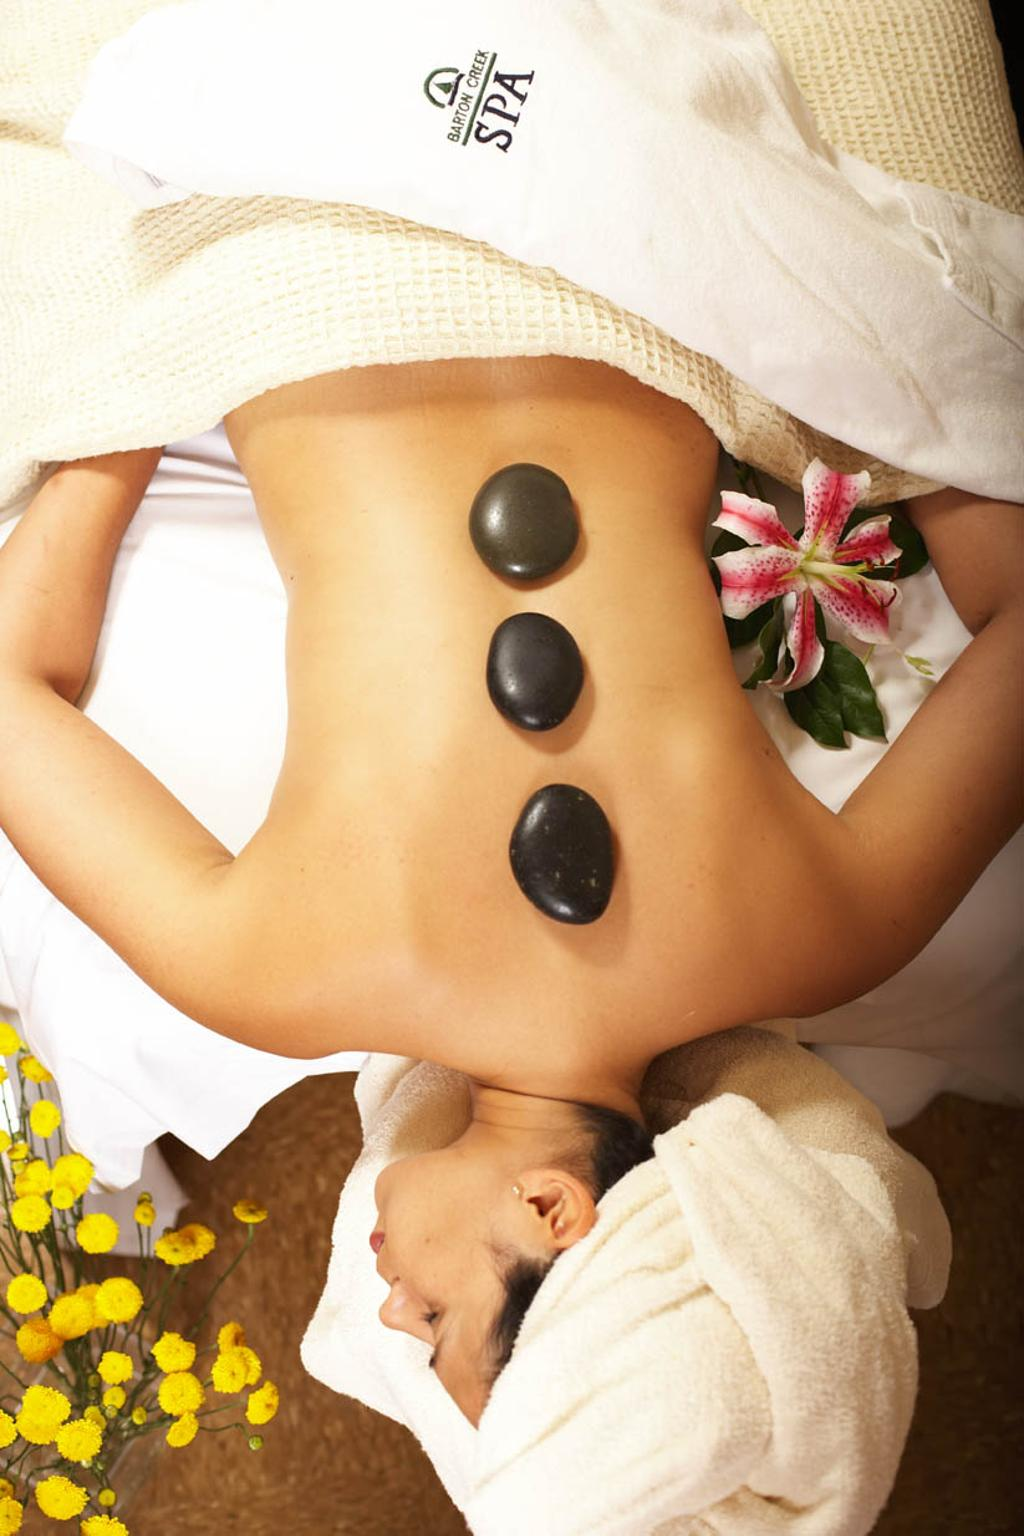face: (357, 1168, 528, 1444)
